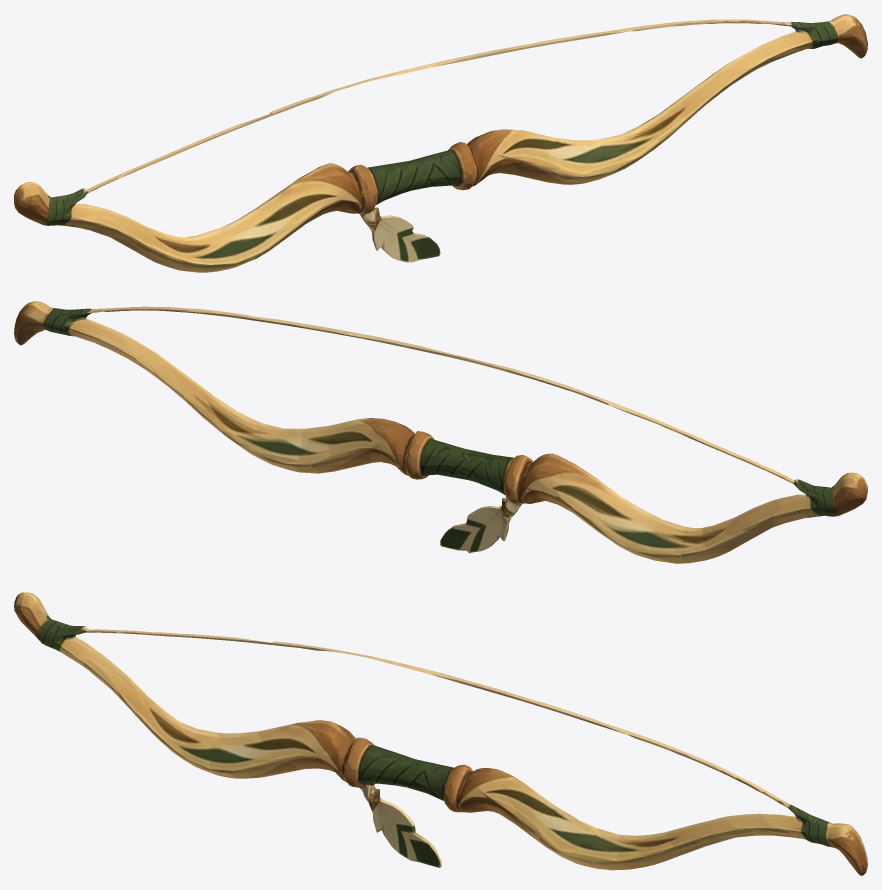
Rendered from wind-archer-bow.hq.glb.
3 views of the same model, one above another, from view 1: azimuth 30°, elevation 25°; view 2: azimuth 150°, elevation 25°; view 3: azimuth 330°, elevation 25° (orthographic).
Visible parts, largest first — view 1: output_unwrapped; view 2: output_unwrapped; view 3: output_unwrapped.
Boxes of the visible parts, x1,y1,x2,y2 form: output_unwrapped: [14, 14, 867, 272]; output_unwrapped: [14, 301, 867, 563]; output_unwrapped: [14, 592, 867, 875].
Size of the model in its own units: 1.91 by 0.4147 by 0.1081.
Materials: 1 (1 with a texture image).
